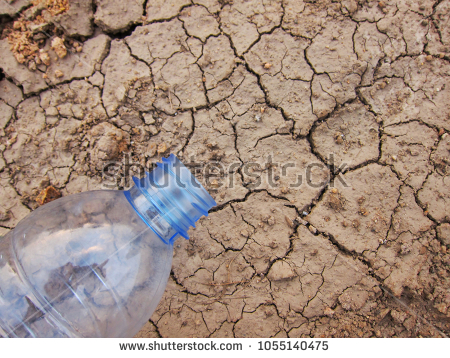bottle: (1, 155, 216, 338)
